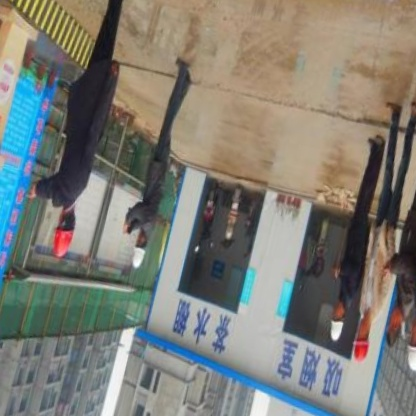red: (45, 224, 81, 268), (345, 334, 376, 375), (324, 313, 350, 351)
white: (380, 312, 404, 356), (127, 243, 152, 281), (401, 339, 416, 383)
